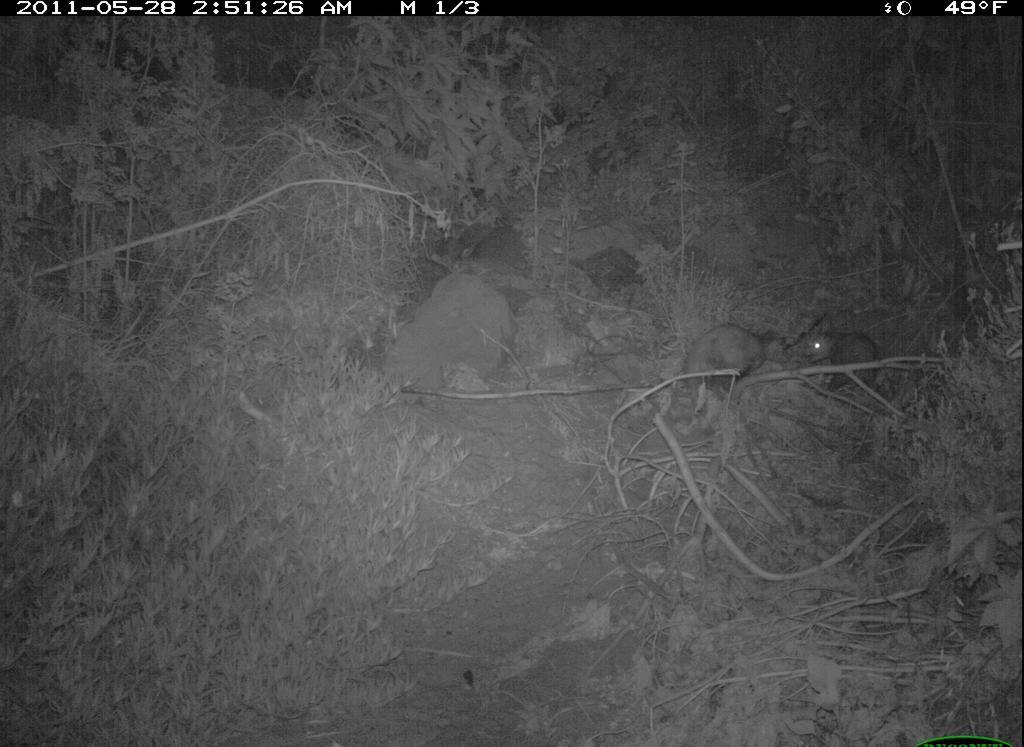opossum: (803, 327, 897, 404)
